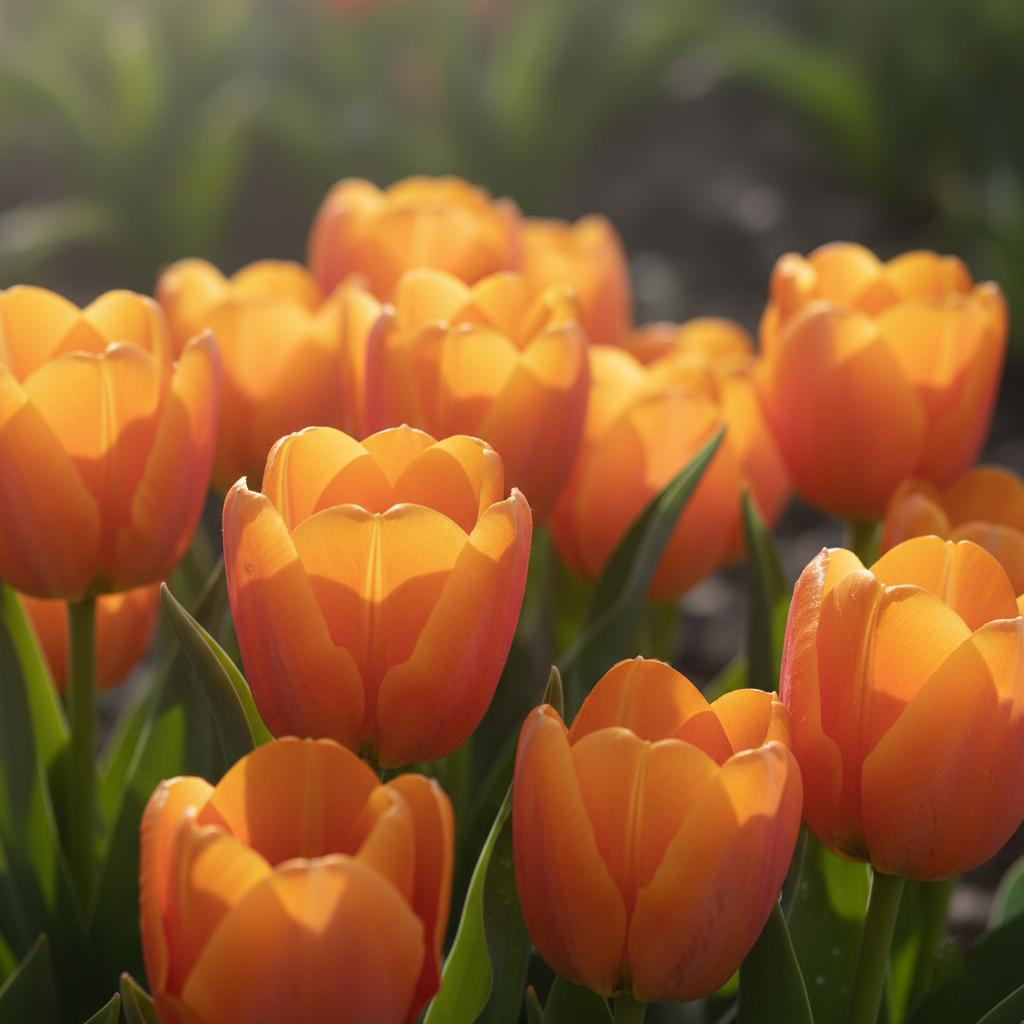tulip: (1, 171, 1021, 1019), (509, 653, 803, 1005)
